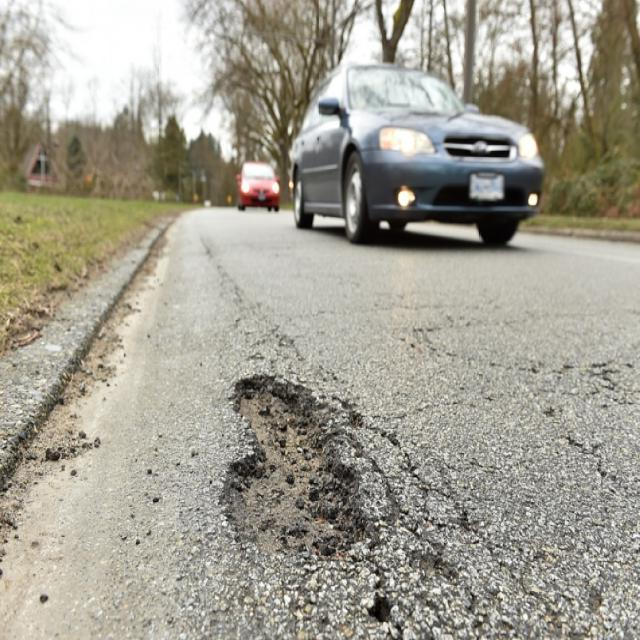pothole: (215, 374, 382, 571)
